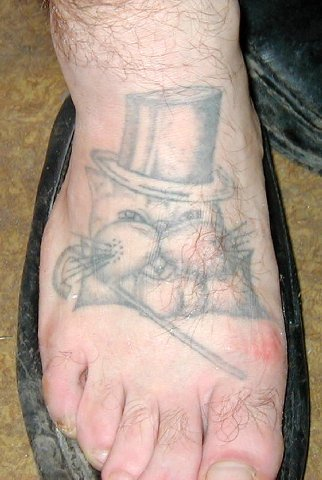tatu8_kot: (49, 78, 287, 381)
